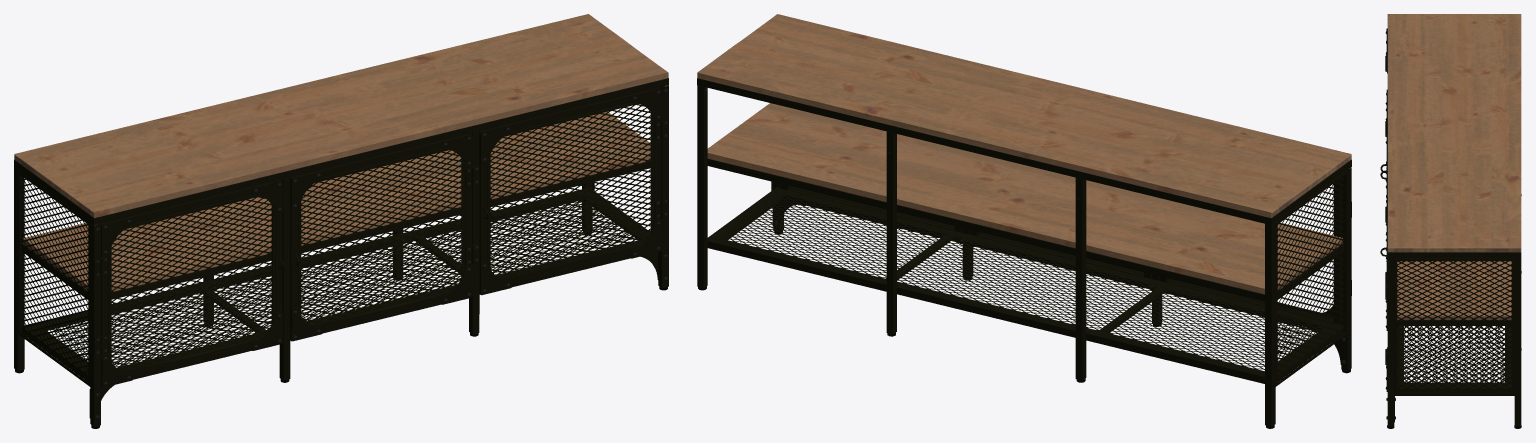
The model's file is fjaellbo_tv_unit_black.glb.
The picture shows the model from 3 angles, left to right: view 1: azimuth 30°, elevation 25°; view 2: azimuth 150°, elevation 25°; view 3: azimuth 270°, elevation 25°; orthographic projection. The views are drawn at different scales.
Parts seen in each view (by area): view 1: 90339290-FJÃƒâ€žLLBO001, Plane; view 2: 90339290-FJÃƒâ€žLLBO001, Plane; view 3: 90339290-FJÃƒâ€žLLBO001, Plane.
Boxes of the visible parts, left/top/right/bottom form: 90339290-FJÃƒâ€žLLBO001: left=14, top=14, right=668, bottom=428; Plane: left=21, top=104, right=651, bottom=378; 90339290-FJÃƒâ€žLLBO001: left=697, top=14, right=1351, bottom=428; Plane: left=719, top=177, right=1344, bottom=378; 90339290-FJÃƒâ€žLLBO001: left=1380, top=14, right=1521, bottom=428; Plane: left=1397, top=261, right=1511, bottom=392.
Bounding box in the file's own units: 1.49 × 0.5383 × 0.3802.
Materials: 2 (2 with a texture image).
